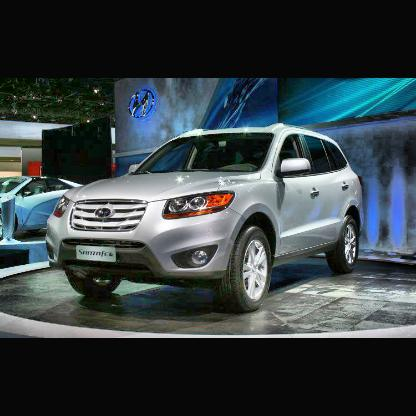Hyundai Santa Fe SUV 2012: (44, 122, 367, 310)
